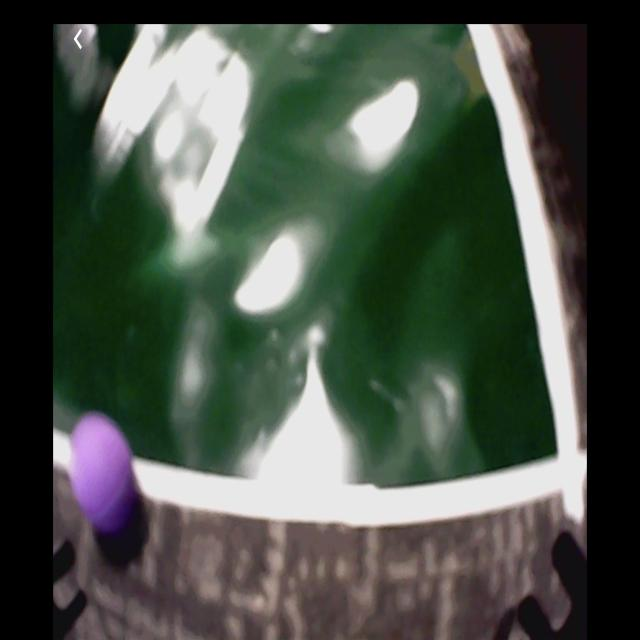ball: (70, 413, 139, 533)
